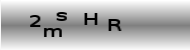2: (27, 13, 42, 28)
H: (82, 12, 99, 26)
R: (106, 18, 122, 32)
m: (42, 27, 65, 38)
s: (54, 11, 69, 22)
